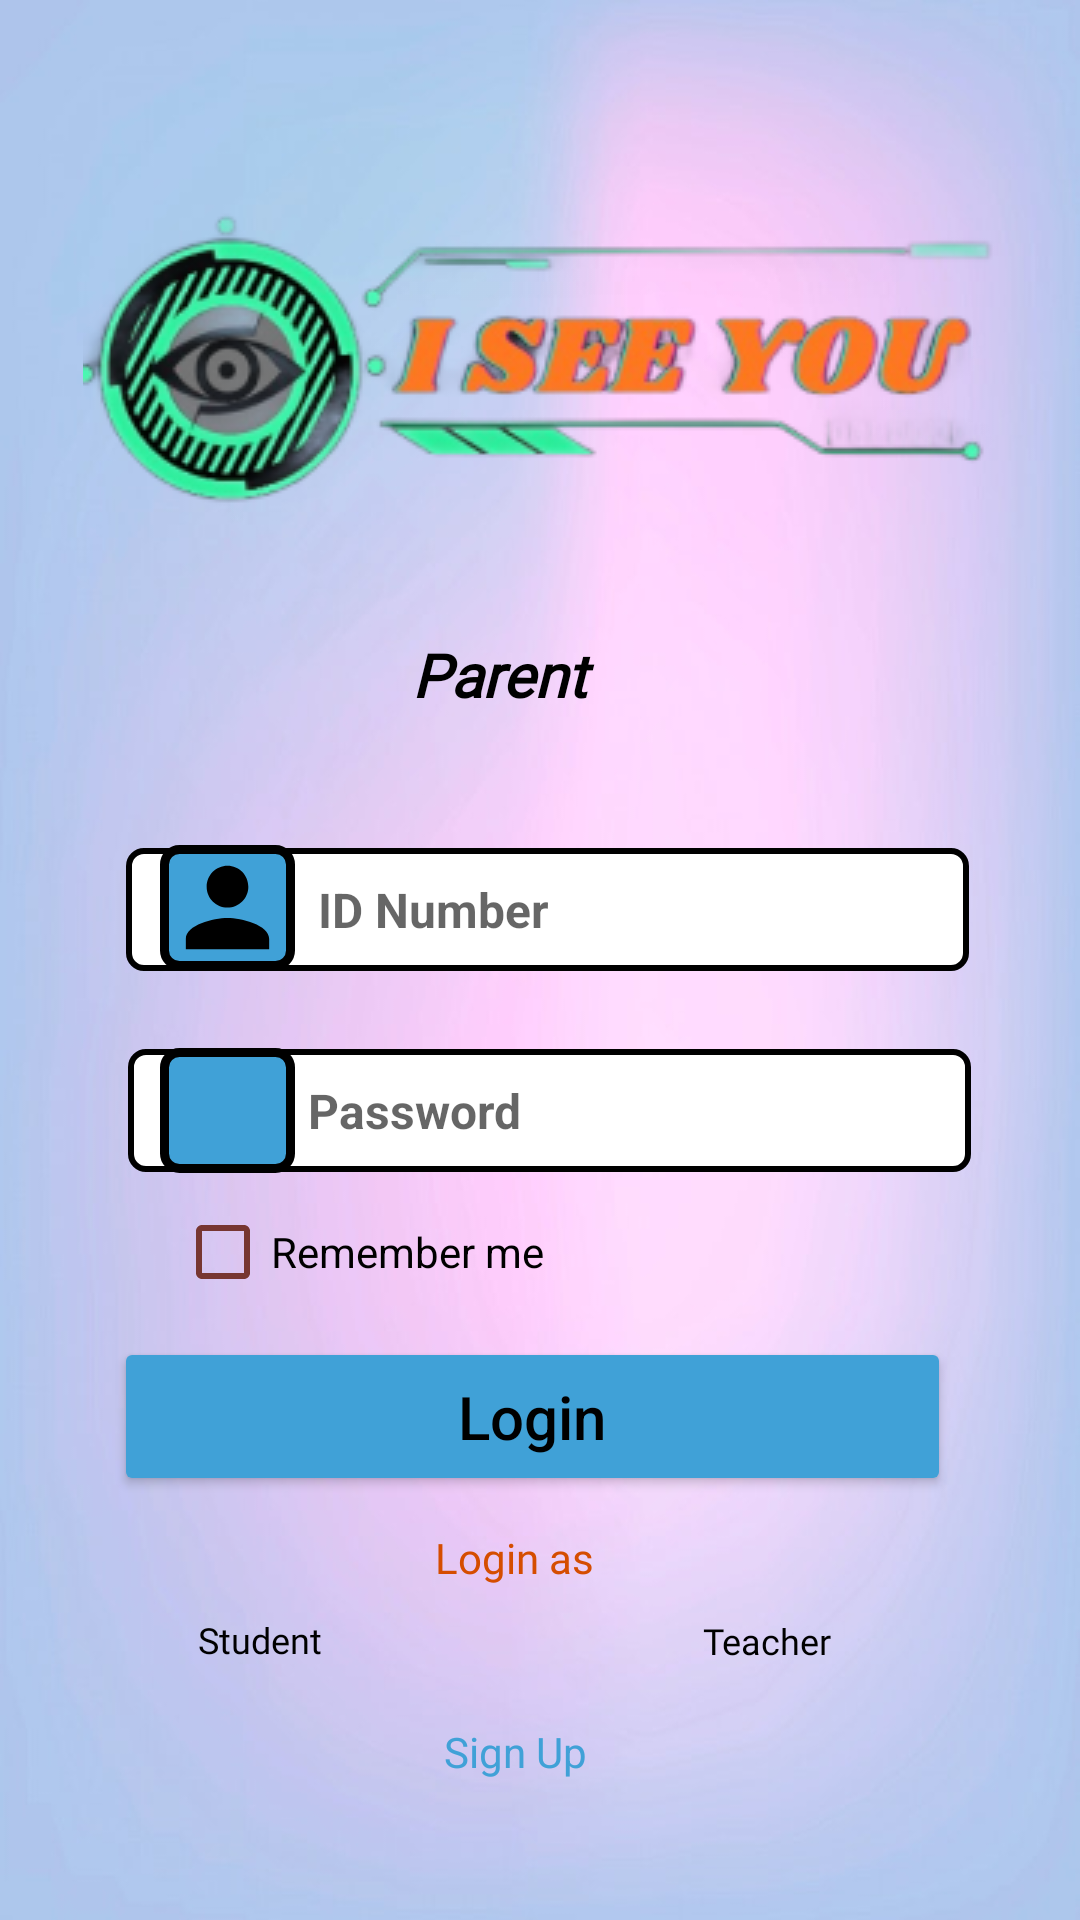

Point at icon controls on the screen. Image size 1080 x 1920, points as point (x, y).
person: point (227, 907)
